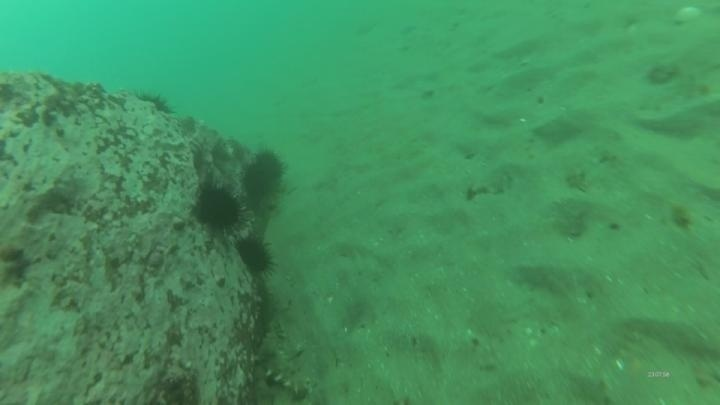echinus: (192, 182, 245, 234), (233, 233, 276, 278), (239, 159, 277, 204), (251, 147, 288, 185), (134, 87, 176, 119)
holothurian: (253, 323, 314, 401)
